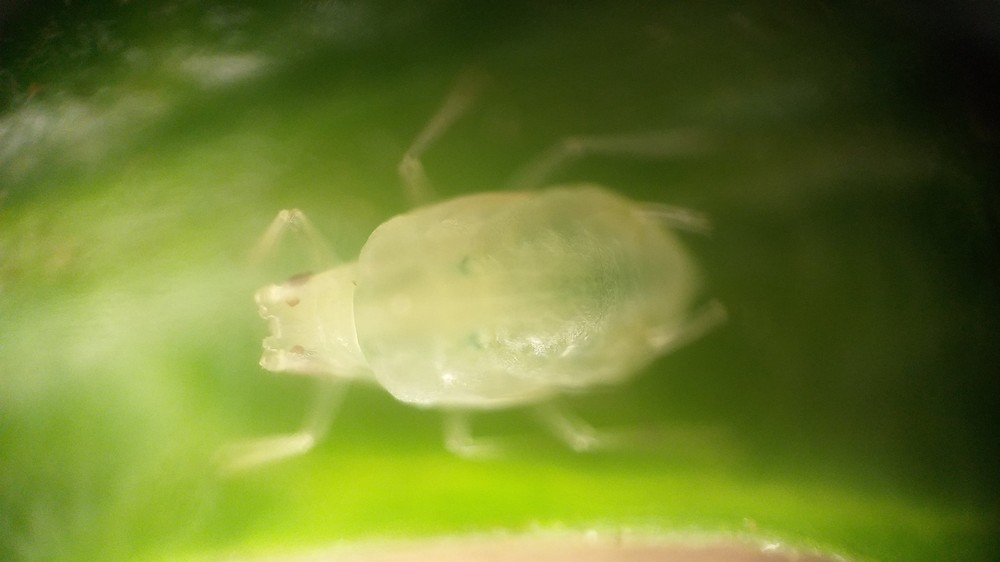Pulgon: (206, 76, 821, 492)
